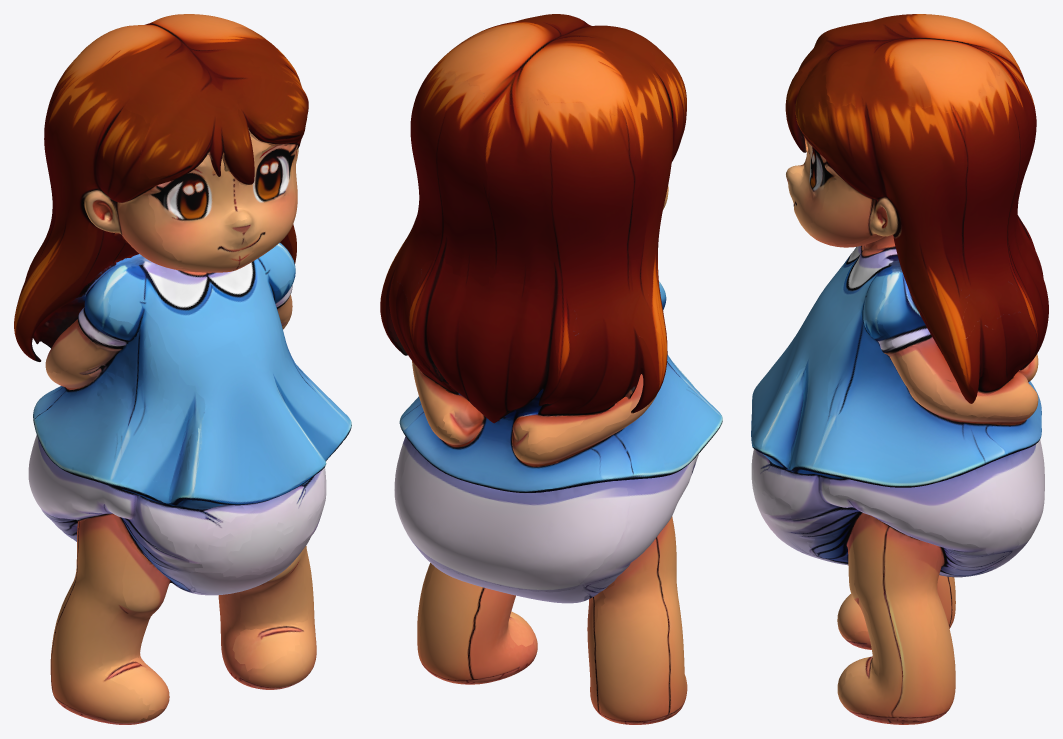
The model's file is Bashful Natasha.glb.
3 renders of one model, left to right at view 1: azimuth 30°, elevation 25°; view 2: azimuth 150°, elevation 25°; view 3: azimuth 270°, elevation 25°, orthographic. The views are drawn at different scales.
Parts seen in each view (by area): view 1: temp_mesh.ply; view 2: temp_mesh.ply; view 3: temp_mesh.ply.
Part boxes in pixels (x1=…): temp_mesh.ply: x1=14, y1=14, x2=351, y2=724; temp_mesh.ply: x1=380, y1=14, x2=722, y2=724; temp_mesh.ply: x1=751, y1=14, x2=1048, y2=724.
Size of the model in its own units: 0.8813 by 1.96 by 0.8265.
1 material, 1 textured.
